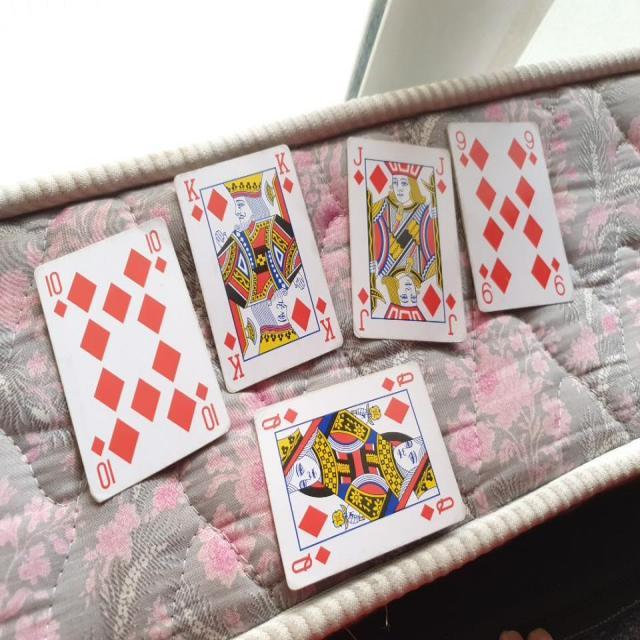10 of diamonds: (29, 213, 231, 507)
9 of diamonds: (446, 118, 576, 313)
jack of diamonds: (343, 132, 468, 345)
king of diamonds: (172, 140, 346, 397)
queen of diamonds: (251, 358, 468, 593)
